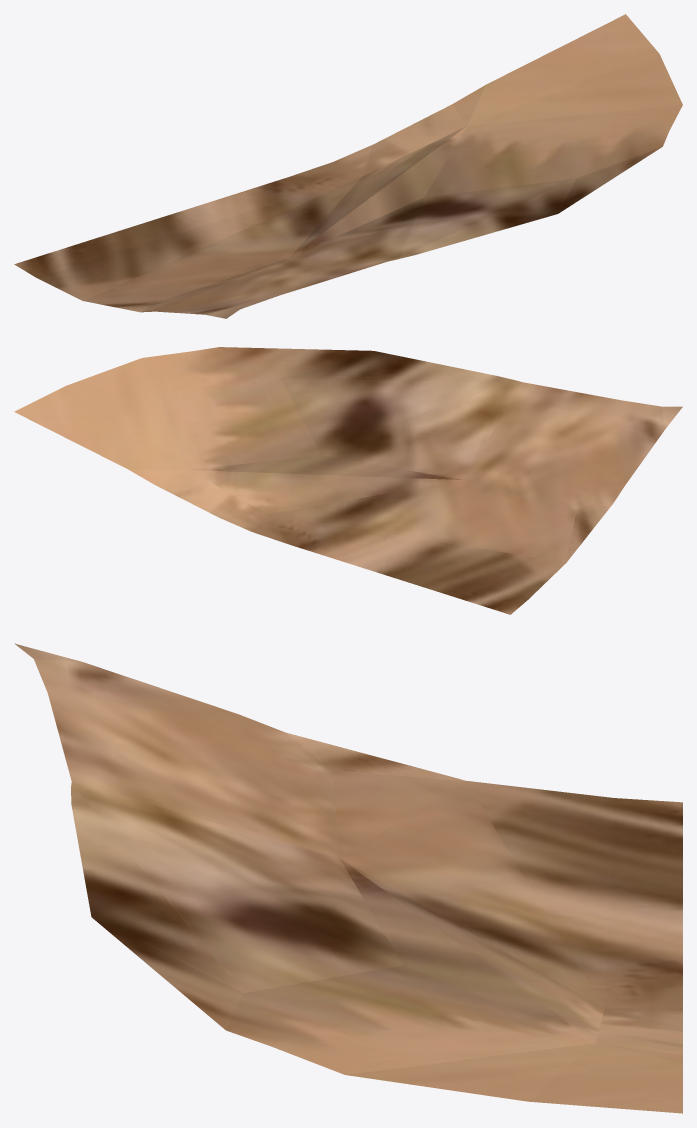
3 views of the same model, one above another, from view 1: azimuth 30°, elevation 25°; view 2: azimuth 150°, elevation 25°; view 3: azimuth 270°, elevation 25° (orthographic). The views are drawn at different scales.
Bounding box in the file's own units: 0.6292 × 0.0992 × 0.3784.
1 material, 1 textured.
